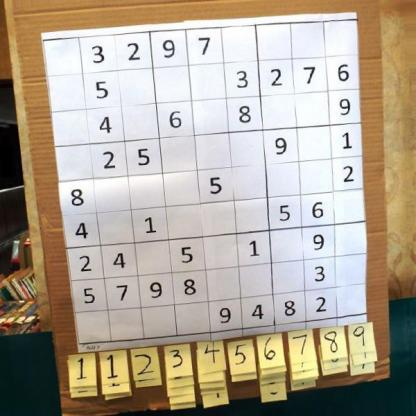sudoku: (39, 16, 370, 347)
